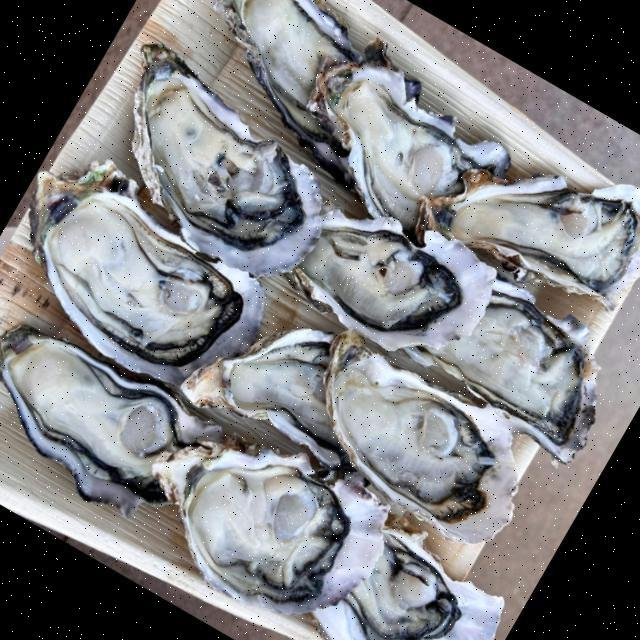Oyster-Open: (131, 53, 338, 279), (40, 184, 253, 373), (326, 339, 519, 545), (152, 447, 383, 616), (398, 283, 592, 462), (0, 327, 179, 516), (315, 64, 508, 226), (219, 0, 365, 171), (186, 334, 352, 481), (444, 177, 638, 294), (311, 526, 505, 640), (299, 222, 467, 335)
